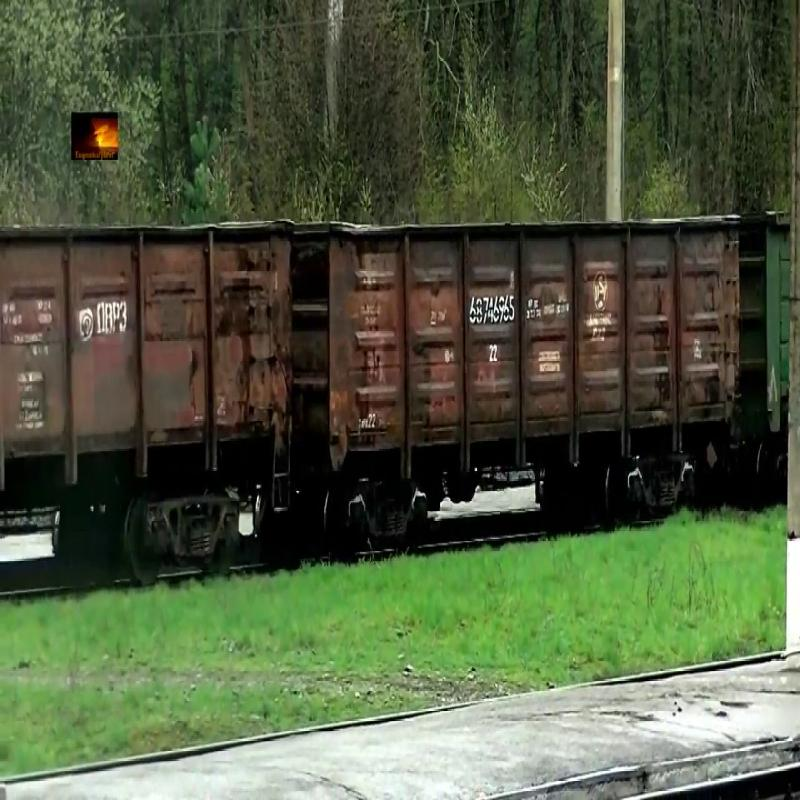train: (295, 215, 742, 475), (1, 224, 294, 495), (744, 215, 789, 455)
